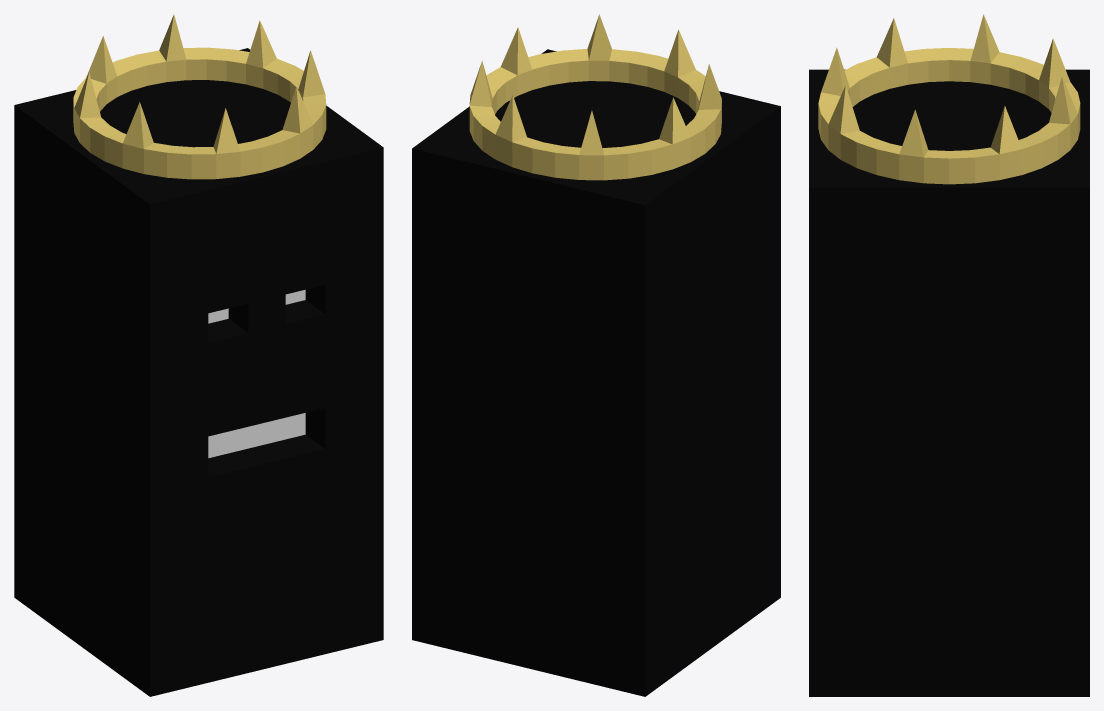
File: King.dae
The picture shows the model from 3 angles, left to right: view 1: azimuth 30°, elevation 25°; view 2: azimuth 150°, elevation 25°; view 3: azimuth 270°, elevation 25°; orthographic projection. The views are drawn at different scales.
Visible parts, largest first — view 1: Cube, Circle; view 2: Cube, Circle; view 3: Cube, Circle.
Part boxes in pixels (x1,y1,x2,y2): Cube: (14, 48, 383, 696); Circle: (73, 14, 326, 179); Cube: (412, 49, 780, 696); Circle: (469, 14, 721, 180); Cube: (809, 69, 1089, 696); Circle: (818, 14, 1080, 184).
Bounding box in the file's own units: 0.9929 × 0.9996 × 2.27.
